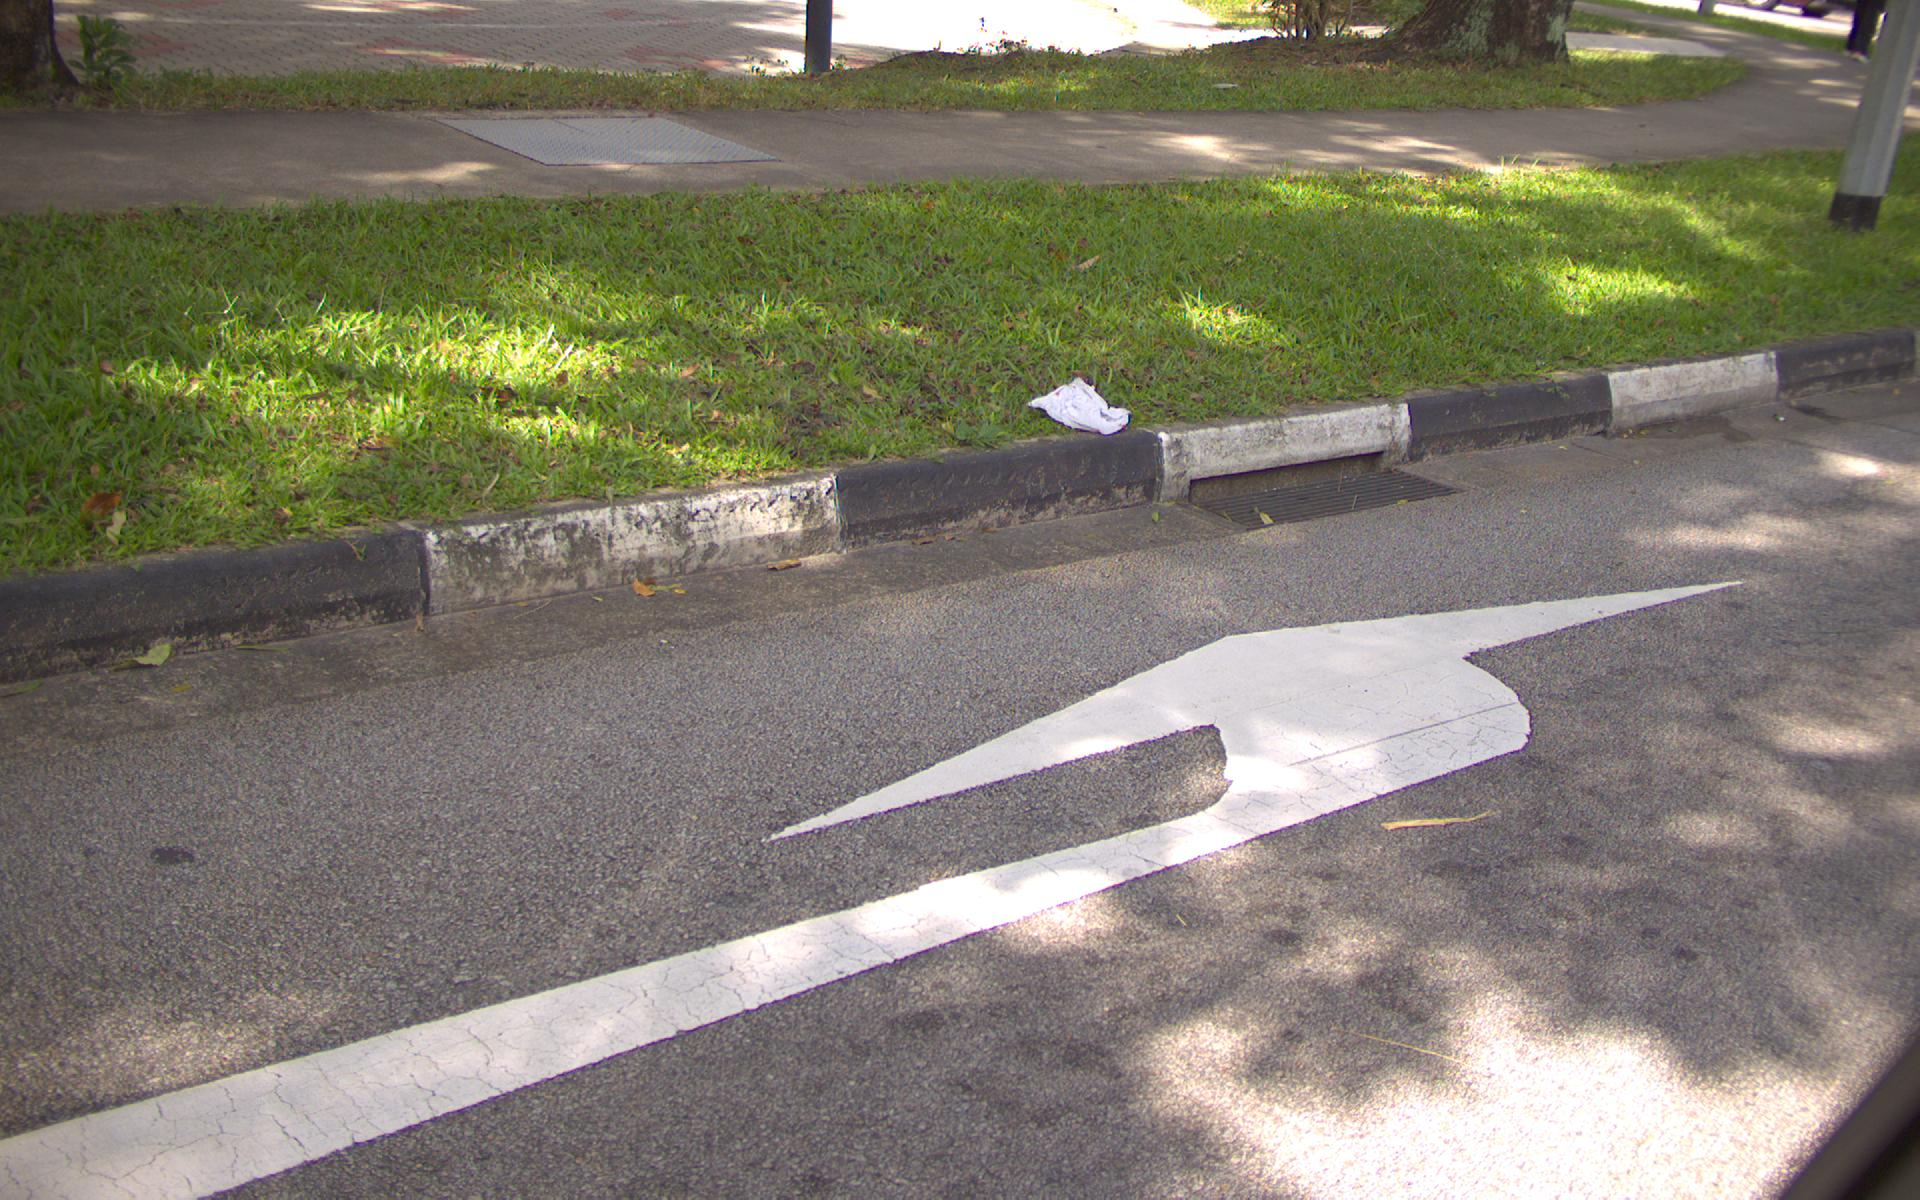curb_dic_low: (10, 108, 1080, 177), (1176, 449, 1480, 532)
road_turf_low: (4, 216, 706, 471), (745, 192, 1433, 377)
